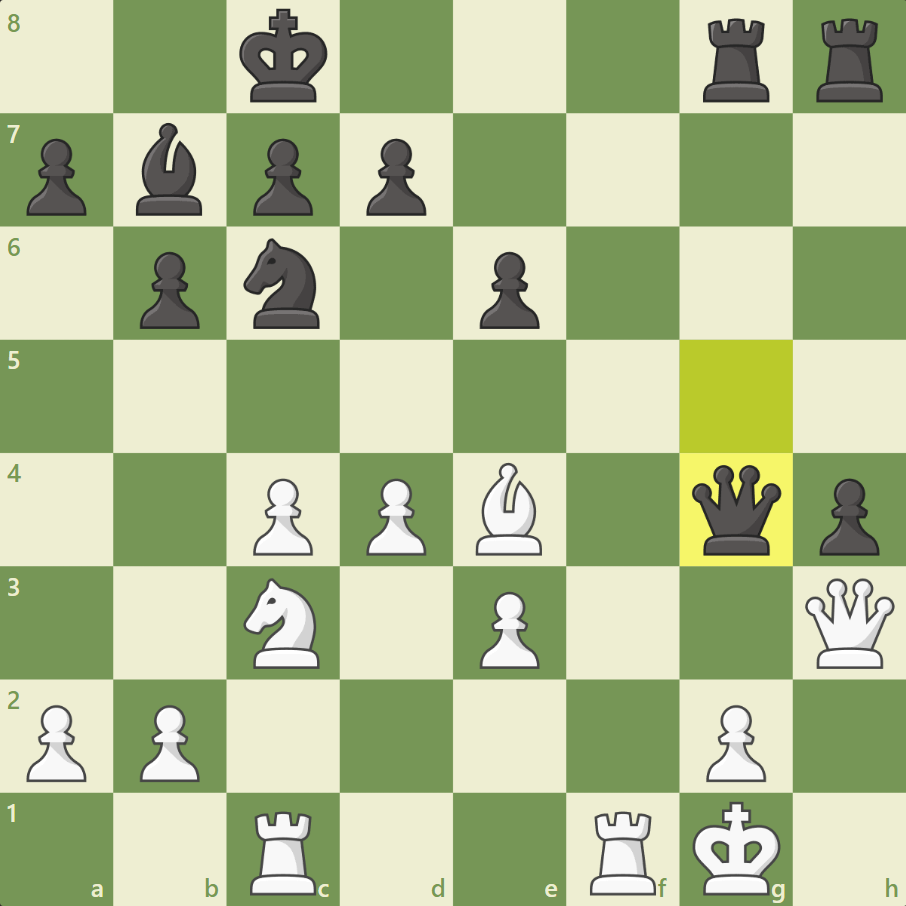B: (472, 460, 545, 561)
K: (689, 800, 782, 901)
N: (241, 575, 322, 673)
P: (21, 700, 90, 787), (134, 698, 203, 785), (473, 586, 542, 673), (700, 701, 769, 788), (360, 472, 429, 559), (247, 473, 316, 560)
Q: (802, 575, 898, 672)
R: (246, 808, 321, 900), (586, 808, 661, 898)
b: (131, 118, 208, 220)
k: (236, 5, 328, 107)
n: (238, 235, 323, 334)
p: (812, 477, 884, 561), (364, 134, 430, 220), (478, 249, 544, 333), (138, 247, 202, 333), (23, 137, 90, 219), (251, 135, 314, 221)
q: (686, 458, 786, 561)
r: (807, 16, 891, 108), (697, 14, 777, 107)
